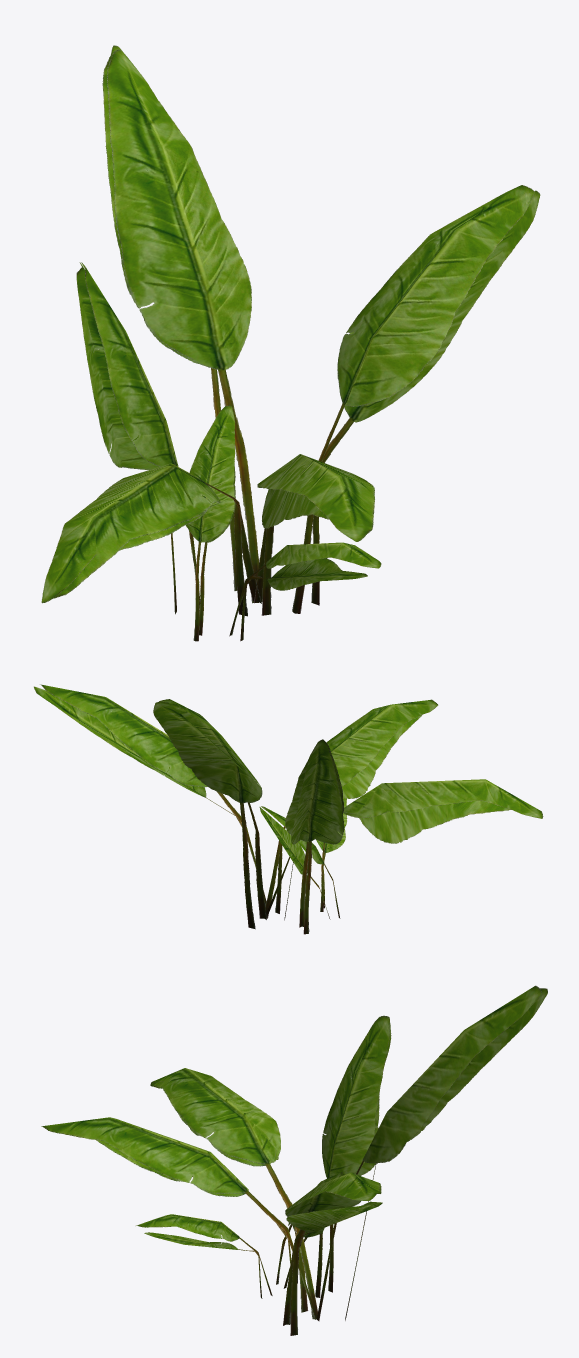
File: Macrotawniopteris_01.DAE
3 views of the same model, one above another, from view 1: azimuth 30°, elevation 25°; view 2: azimuth 150°, elevation 25°; view 3: azimuth 270°, elevation 25° (orthographic). The views are drawn at different scales.
Visible parts, largest first — view 1: Macrotaeniopteris300, Macrotaeniopteris150; view 2: Macrotaeniopteris150, Macrotaeniopteris300; view 3: Macrotaeniopteris300, Macrotaeniopteris150.
Part boxes in pixels (x1=…): Macrotaeniopteris300: x1=41, y1=49, x2=534, y2=641; Macrotaeniopteris150: x1=53, y1=45, x2=540, y2=641; Macrotaeniopteris150: x1=34, y1=686, x2=511, y2=934; Macrotaeniopteris300: x1=40, y1=684, x2=543, y2=927; Macrotaeniopteris300: x1=41, y1=985, x2=541, y2=1325; Macrotaeniopteris150: x1=96, y1=988, x2=547, y2=1335.
Bounding box in the file's own units: 197 × 184 × 130.
